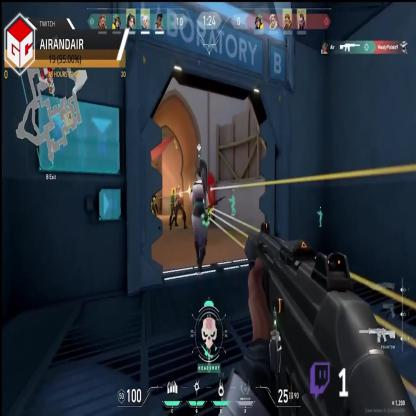enemy: (170, 186, 187, 231), (148, 184, 158, 224), (169, 187, 177, 228)
enemy_head: (150, 185, 155, 193), (177, 186, 181, 192), (172, 188, 175, 195)
